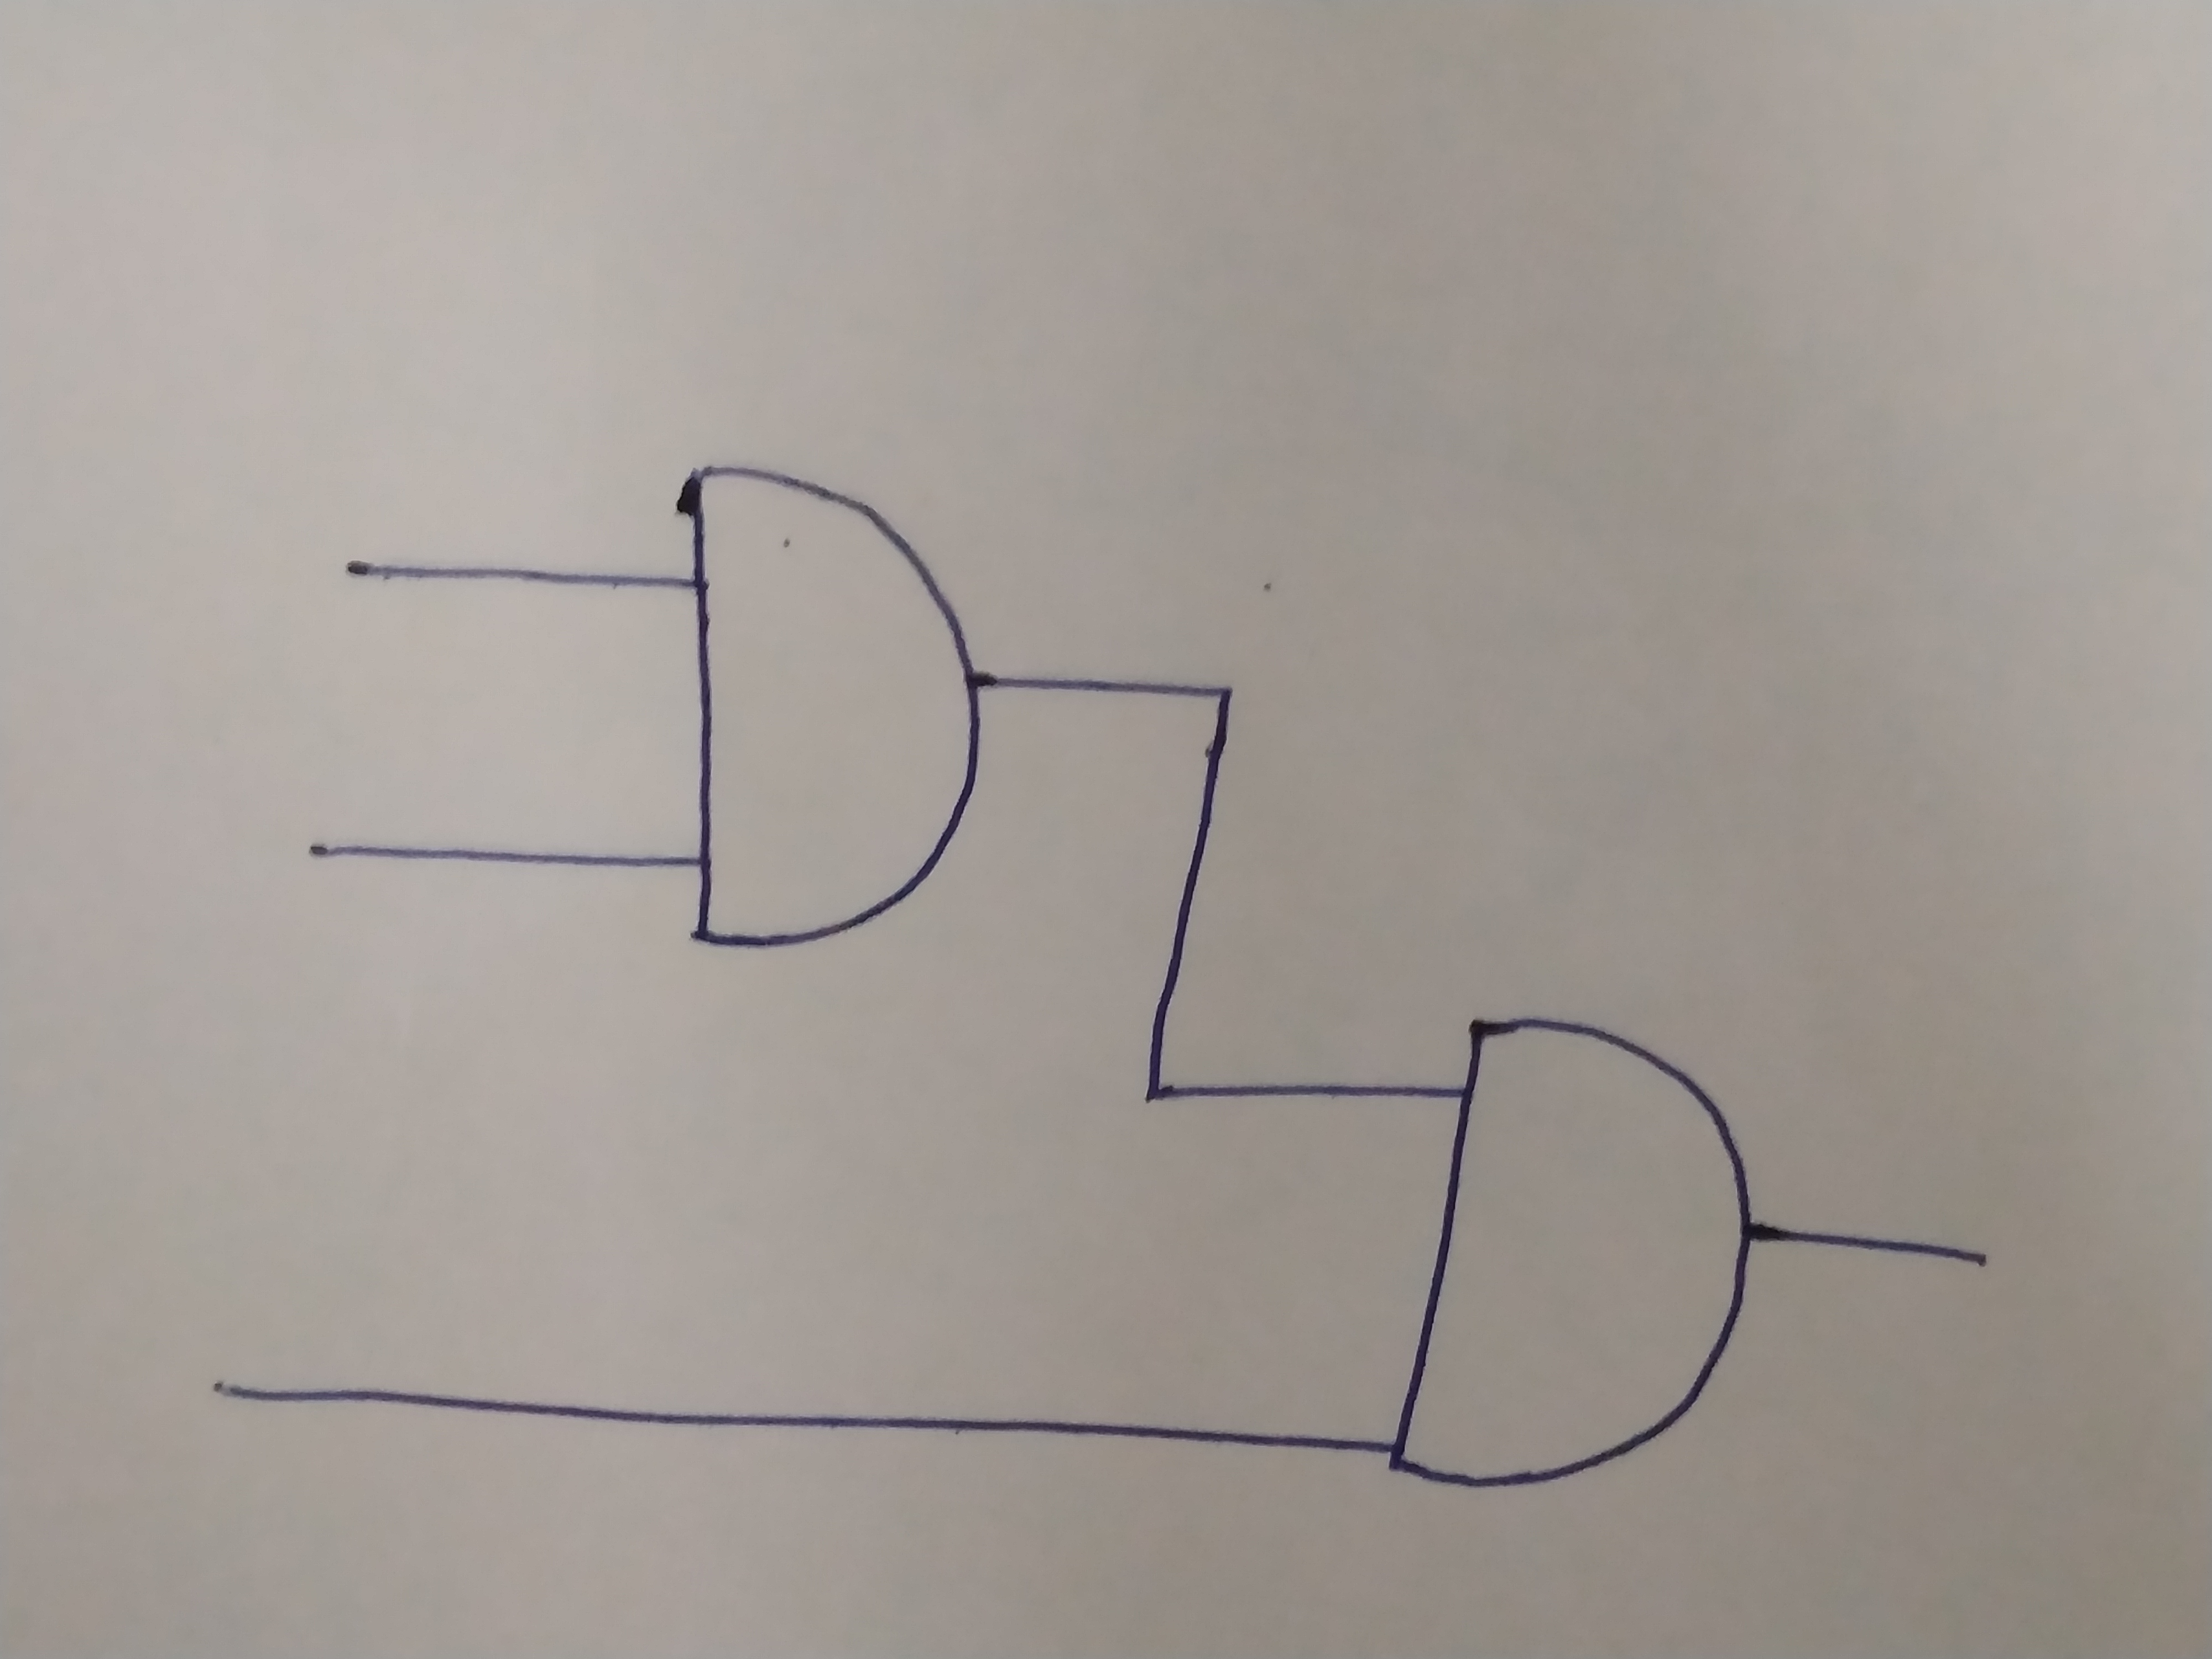and: (1390, 1025, 1749, 1488), (681, 460, 982, 955)
